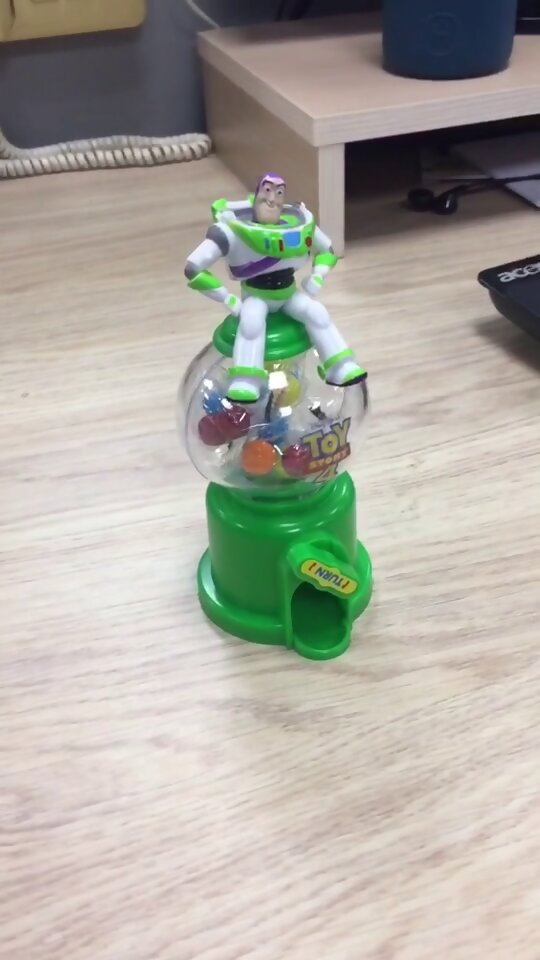buzz: (169, 167, 383, 664)
